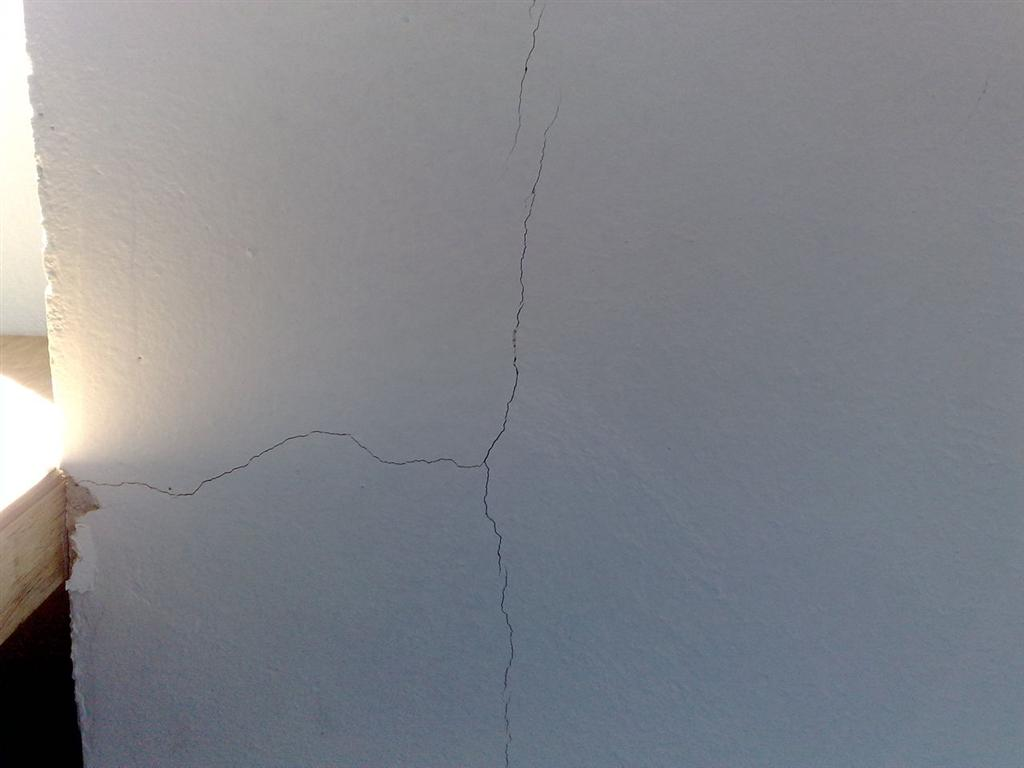crack: (62, 421, 499, 505)
